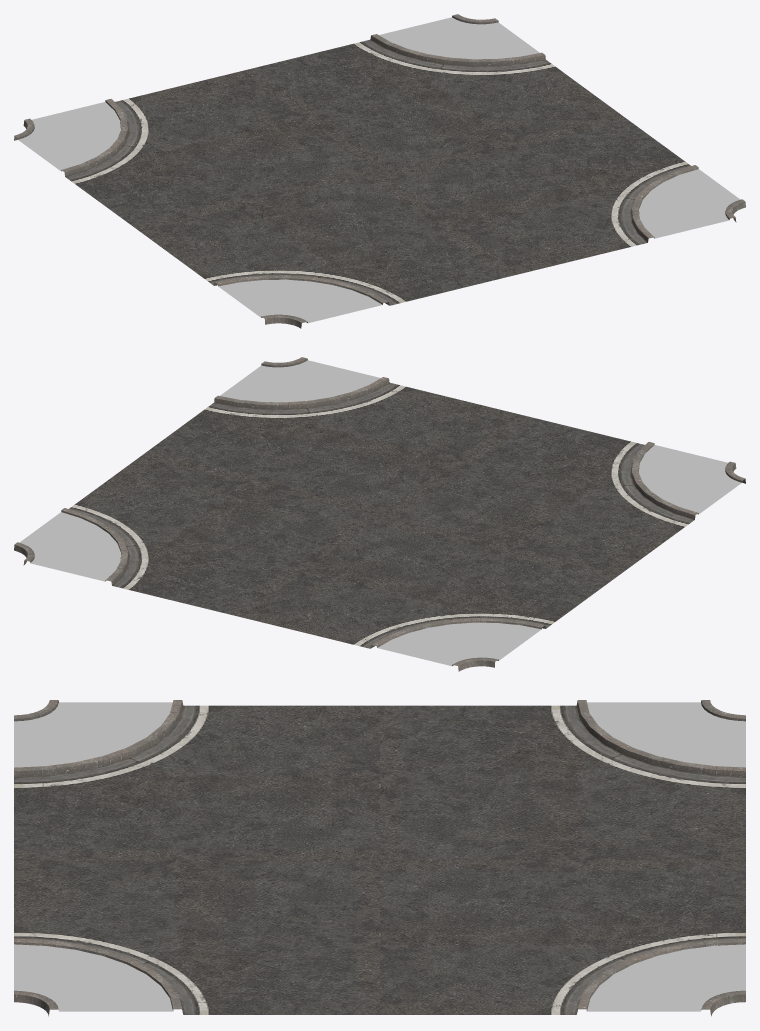
File: malu.FBX
3 renders of one model, top to bottom at view 1: azimuth 30°, elevation 25°; view 2: azimuth 150°, elevation 25°; view 3: azimuth 270°, elevation 25°, orthographic. The views are drawn at different scales.
Parts seen in each view (by area): view 1: doalu, LU, polySurface63, lubian; view 2: doalu, LU, polySurface63, lubian; view 3: doalu, LU, polySurface63, lubian.
Boxes of the visible parts, <box> form: doalu: <box>70,42,689,303</box>; LU: <box>18,17,739,323</box>; polySurface63: <box>14,14,745,328</box>; lubian: <box>65,39,690,305</box>; doalu: <box>70,385,689,646</box>; LU: <box>19,360,741,666</box>; polySurface63: <box>14,357,745,671</box>; lubian: <box>69,382,694,648</box>; doalu: <box>14,705,745,1014</box>; LU: <box>14,702,745,1011</box>; polySurface63: <box>14,700,745,1016</box>; lubian: <box>14,705,745,1014</box>.
Size of the model in its own units: 8 by 0.0888 by 8.
